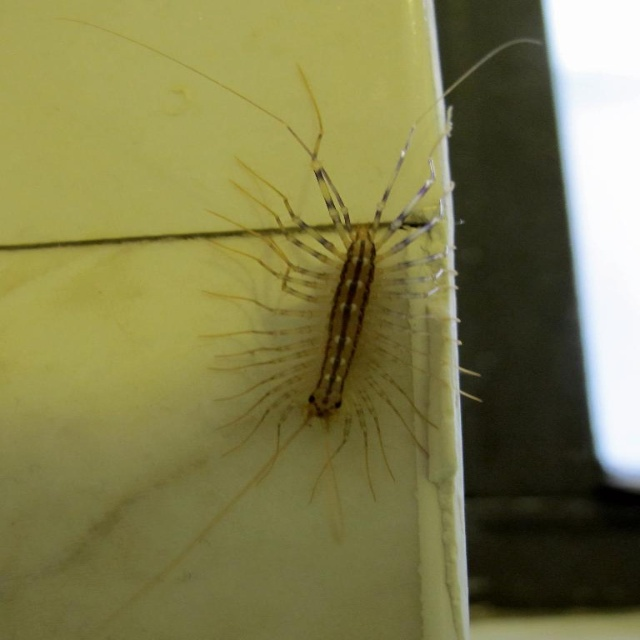Centipede: (51, 11, 540, 639)
